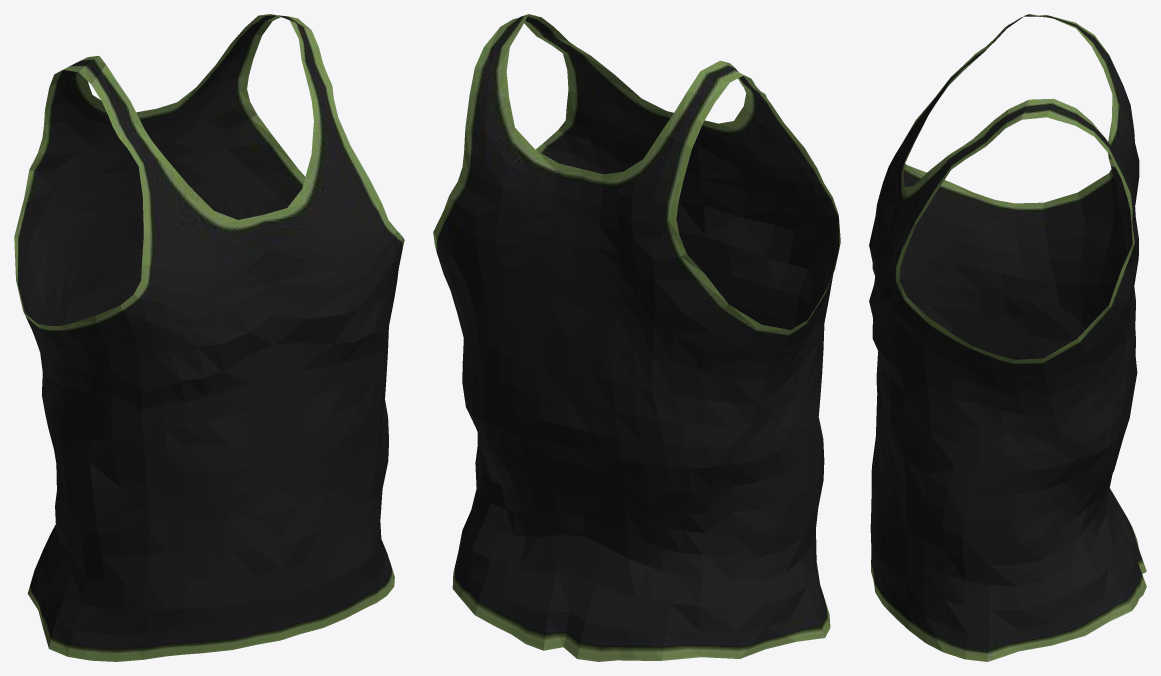
Rendered from mhw_mindfront_tank_top_01.glb.
3 views of the same model, side by side, from view 1: azimuth 30°, elevation 25°; view 2: azimuth 150°, elevation 25°; view 3: azimuth 270°, elevation 25° (orthographic). The views are drawn at different scales.
Parts seen in each view (by area): view 1: mhw_mindfront_tank_top_01; view 2: mhw_mindfront_tank_top_01; view 3: mhw_mindfront_tank_top_01.
Boxes of the visible parts, x1=… form: mhw_mindfront_tank_top_01: x1=14, y1=14, x2=404, y2=661; mhw_mindfront_tank_top_01: x1=433, y1=14, x2=840, y2=661; mhw_mindfront_tank_top_01: x1=869, y1=14, x2=1146, y2=661.
Size of the model in its own units: 0.3623 by 0.558 by 0.267.
1 material, 1 textured.
